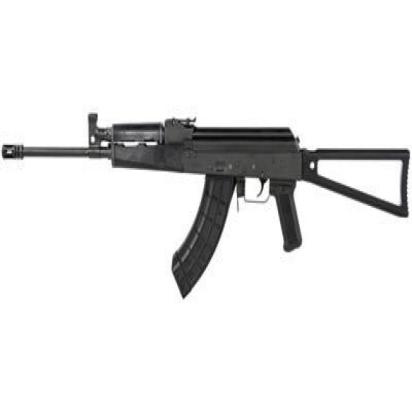Gun: (1, 114, 409, 275)
